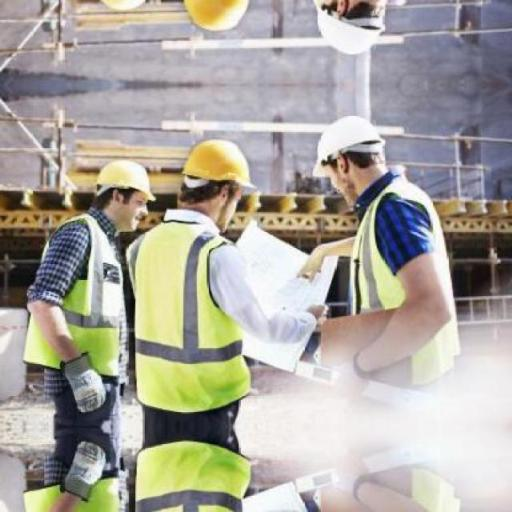helmet: (172, 132, 265, 203), (302, 108, 392, 180), (85, 154, 160, 206)
vest: (320, 178, 464, 390), (128, 217, 256, 417), (16, 211, 130, 385)
